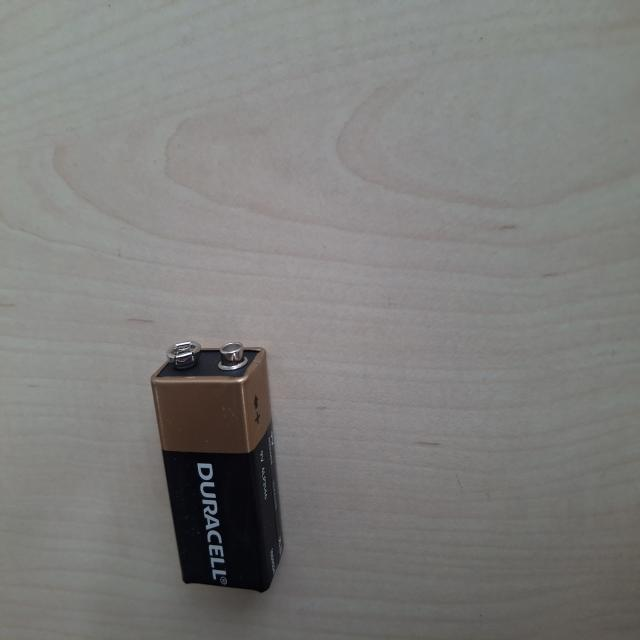9V: (36, 202, 224, 376)
